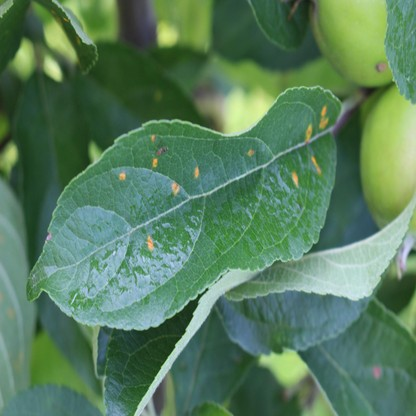rust: (319, 105, 329, 128), (311, 155, 321, 175), (305, 123, 312, 143), (291, 171, 298, 186), (157, 146, 168, 155), (172, 183, 180, 194), (147, 235, 153, 249), (247, 148, 255, 156), (119, 172, 125, 179), (195, 167, 199, 177), (62, 16, 69, 21), (153, 160, 157, 168), (76, 36, 80, 44), (51, 9, 55, 15), (151, 136, 155, 141)
